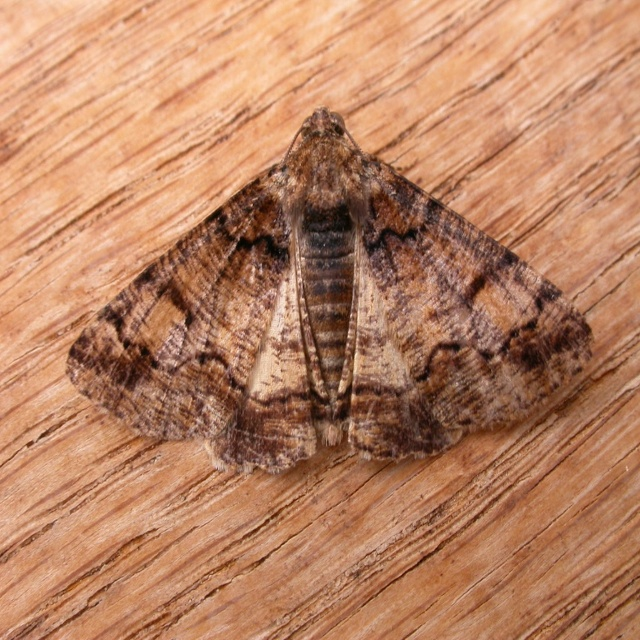Moths and butterflies: (61, 103, 596, 484)
